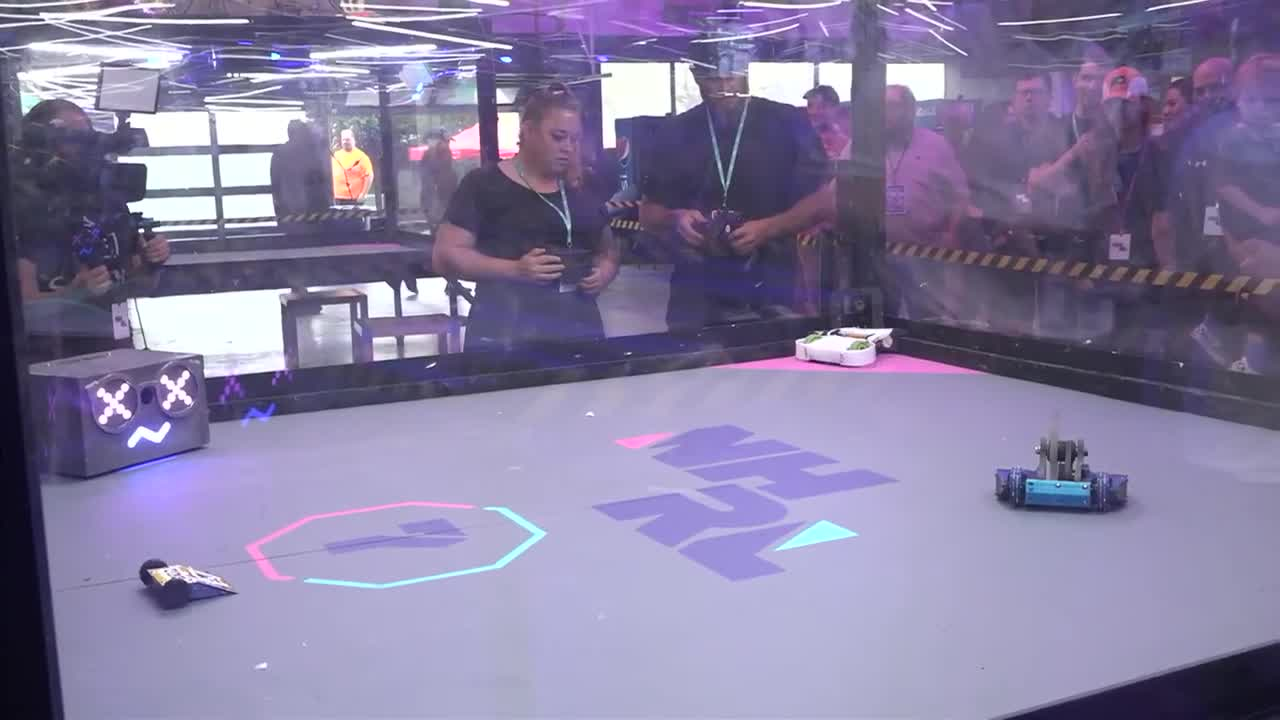combatbot: (992, 430, 1133, 515), (795, 327, 898, 367)
housebot: (31, 348, 212, 479)
minibot: (136, 558, 239, 614)
